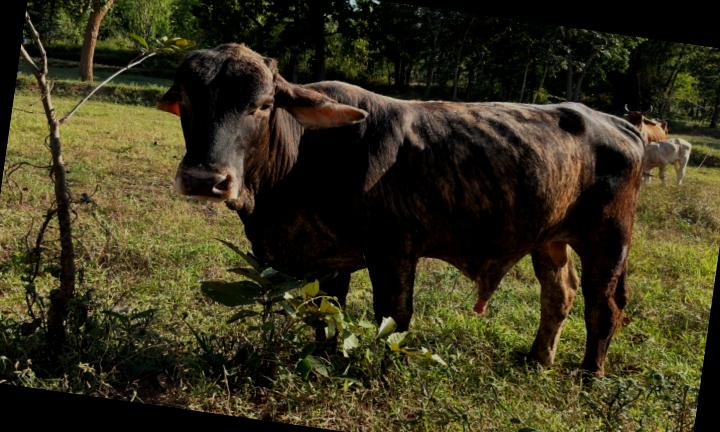Charolais: (157, 44, 644, 376)
